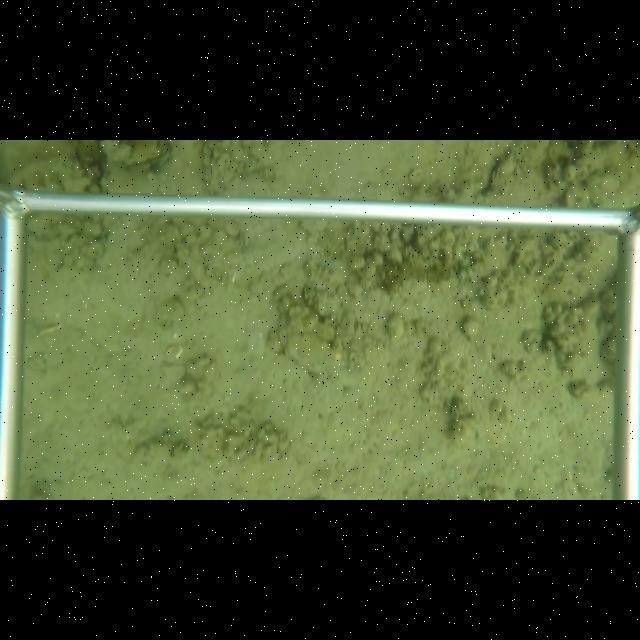Oyster-Closed: (275, 323, 346, 374), (202, 147, 223, 196)
